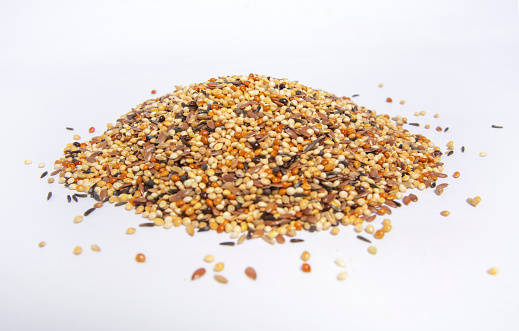seed: (40, 60, 458, 246)
